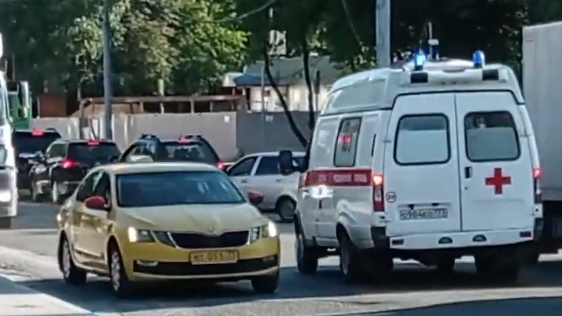ambulance: (297, 57, 545, 290)
non emergency car: (54, 160, 281, 294), (28, 136, 120, 203), (228, 150, 314, 218)
